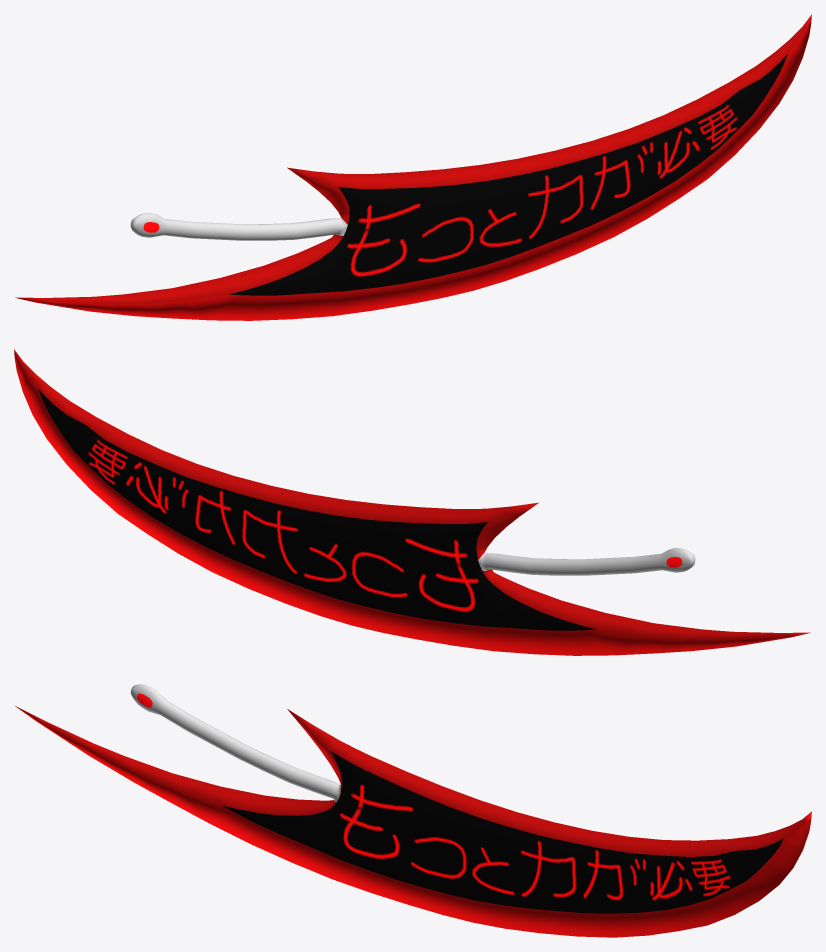
Rendered from Power Edje.fbx.
3 renders of one model, top to bottom at view 1: azimuth 30°, elevation 25°; view 2: azimuth 150°, elevation 25°; view 3: azimuth 330°, elevation 25°, orthographic.
Parts seen in each view (by area): view 1: Circle.003; view 2: Circle.003; view 3: Circle.003.
Part boxes in pixels (bbox=[...]): Circle.003: bbox=[15, 14, 811, 320]; Circle.003: bbox=[14, 349, 810, 655]; Circle.003: bbox=[15, 684, 811, 937].
Bounding box in the file's own units: 644 × 150 × 10.67.
